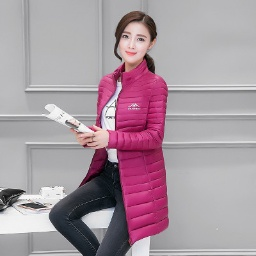face: (111, 11, 159, 65)
